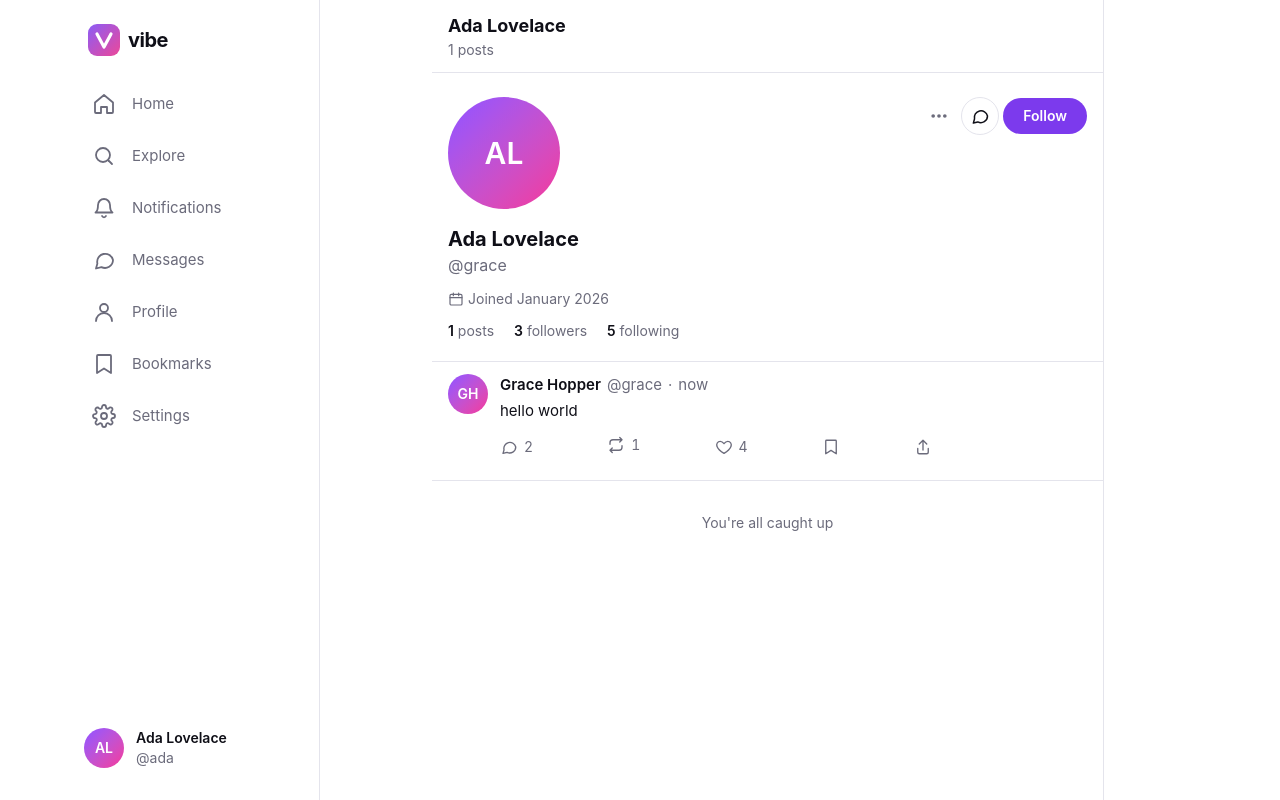
it: PostCard › rolls the like back when the server fails
Click the button named "Like": (731, 447) [706, 431, 756, 463]
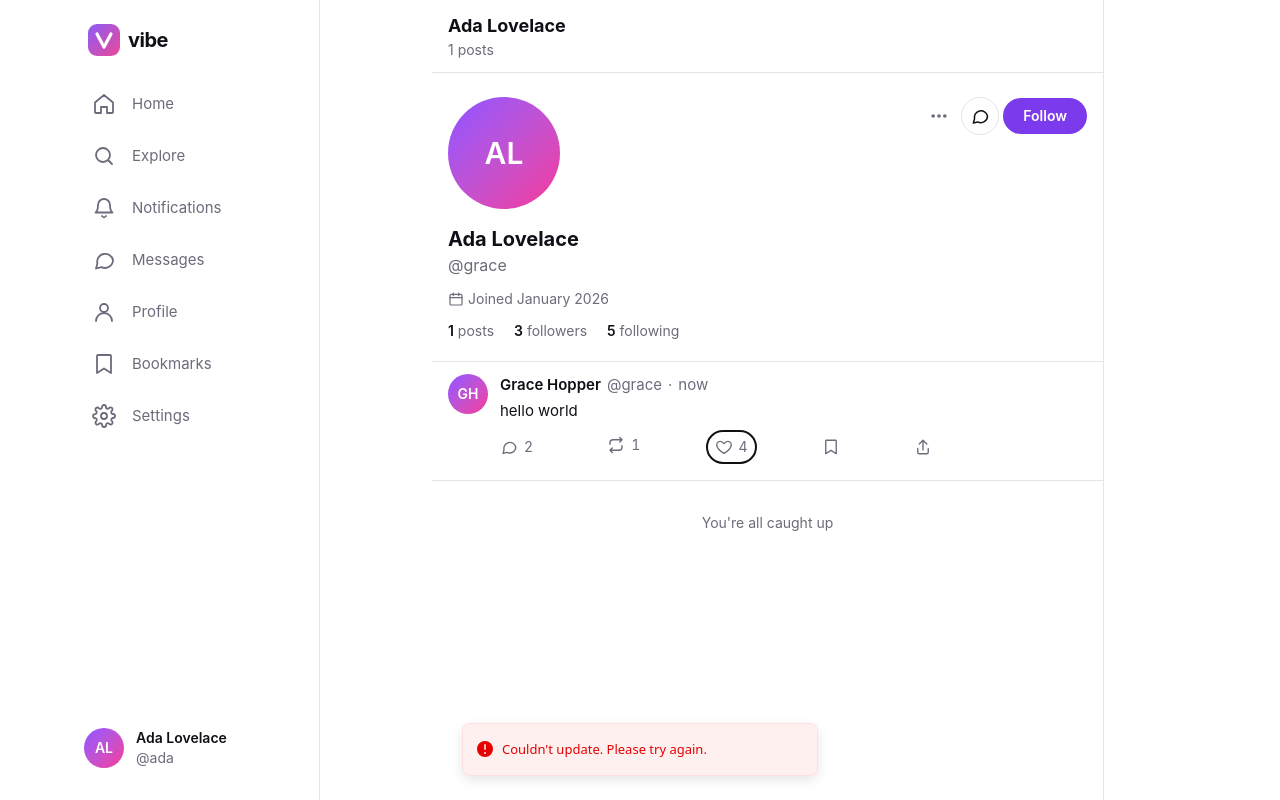
Check: the text "Couldn't update. Please try again." is shown, box [502, 740, 707, 759]
